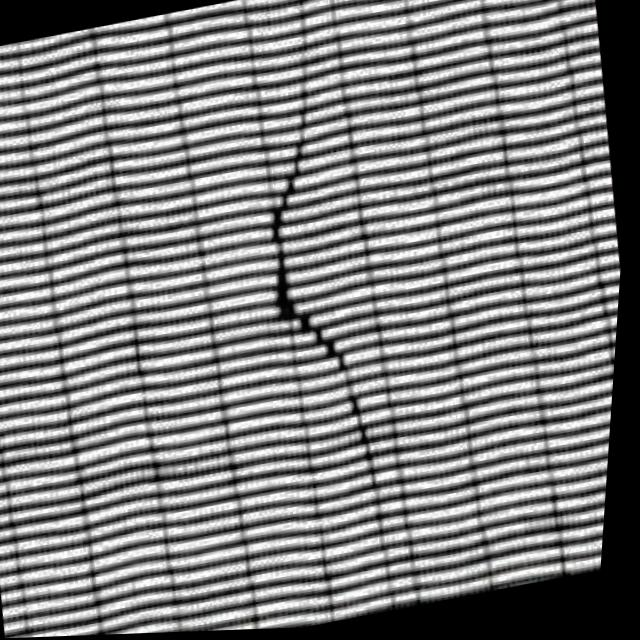Stitch: (206, 70, 431, 541)
